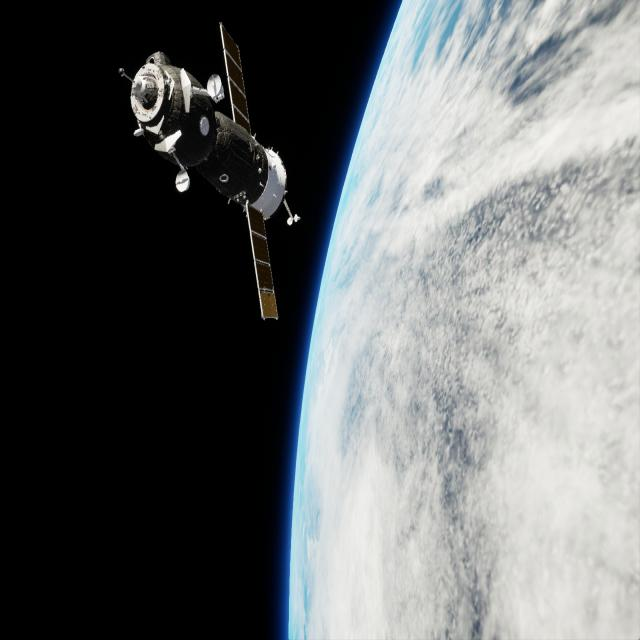Satellites revolving around earth: (116, 20, 302, 324)
